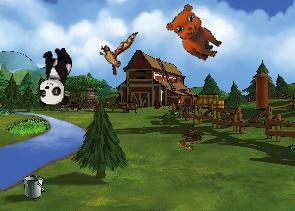bear: (161, 0, 231, 65)
eagle: (95, 26, 138, 78)
panda: (37, 46, 72, 107)
